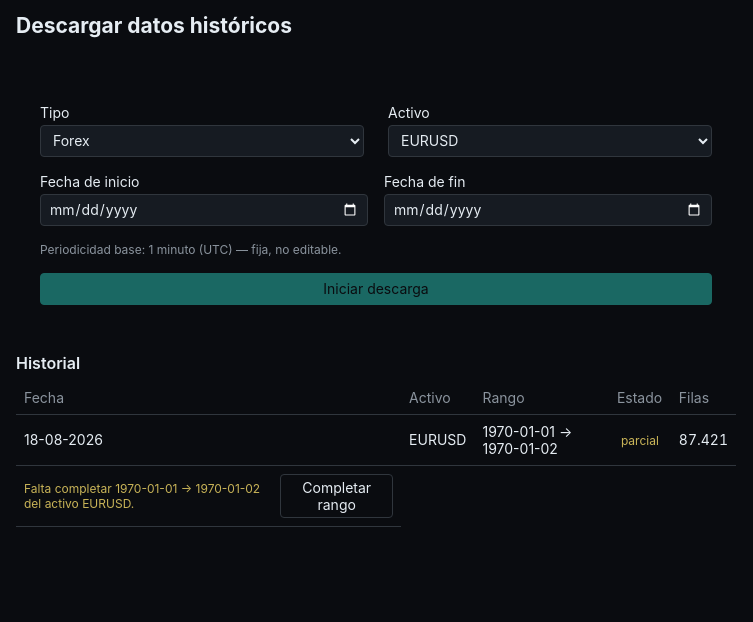
it: DownloadScreen (TASK-UI-021, SCR-002) › marks a partial result and offers to complete the range (RF-006)
Type "2026-01-01" into the date field labelled "Fecha de inicio".
click(204, 210); type("2026-01-01")  # box [40, 194, 368, 226]
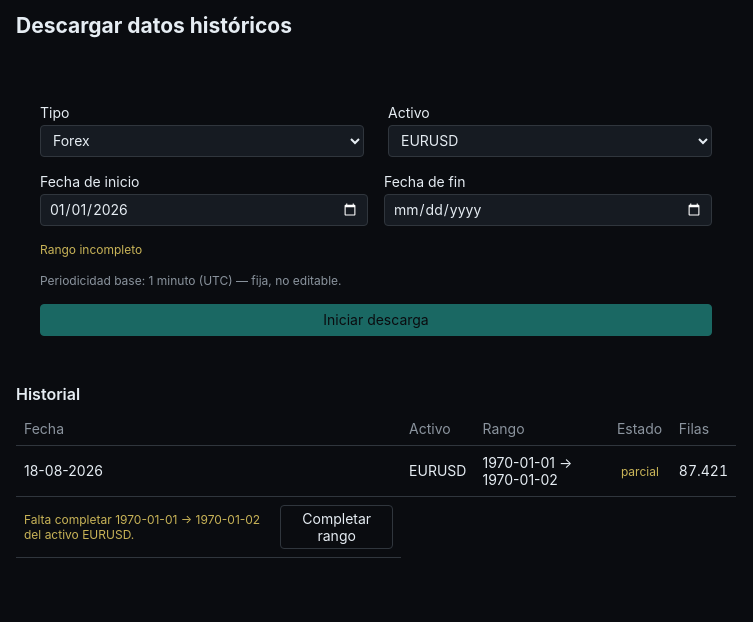
Type "2026-01-02" into the date field labelled "Fecha de fin".
click(548, 210); type("2026-01-02")  # box [384, 194, 712, 226]
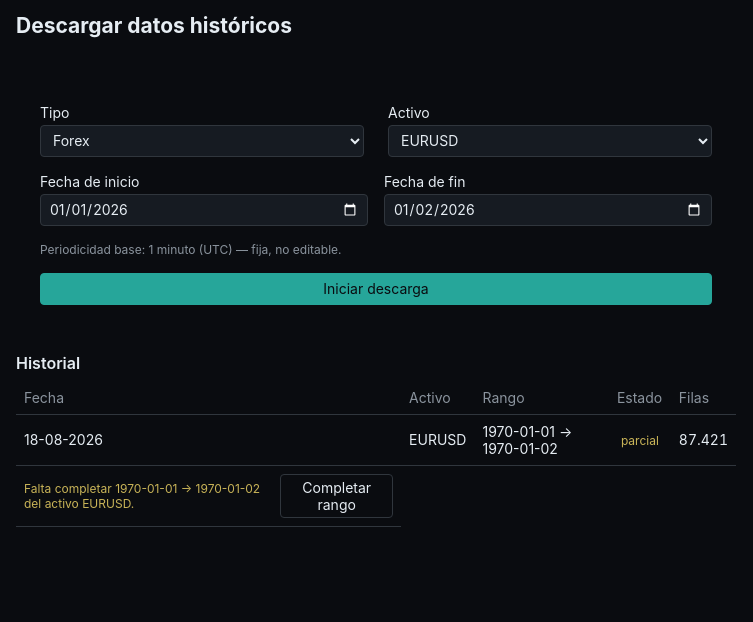
Click the button "Iniciar descarga".
click(376, 289)  # box [40, 273, 712, 305]
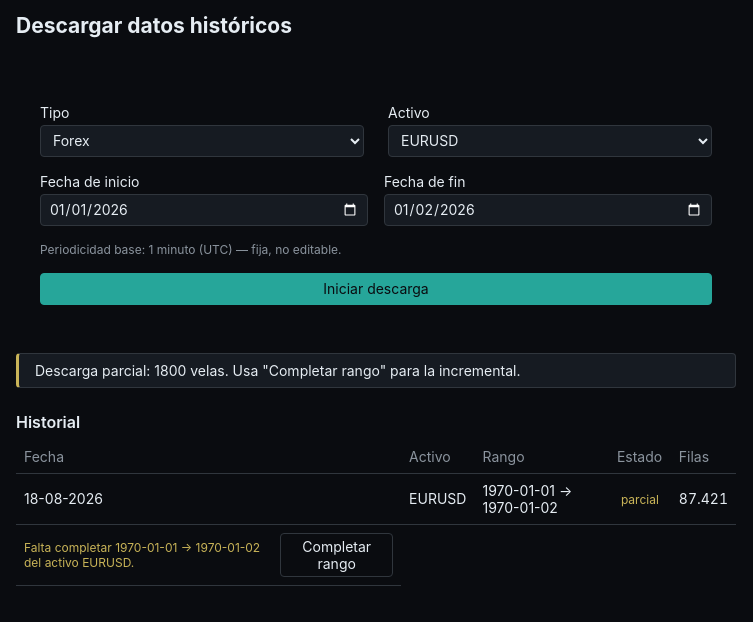
Now the text "Descarga parcial:" is shown, box [35, 362, 520, 379]
Click the button "Completar rango".
click(337, 555)  # box [280, 533, 393, 577]
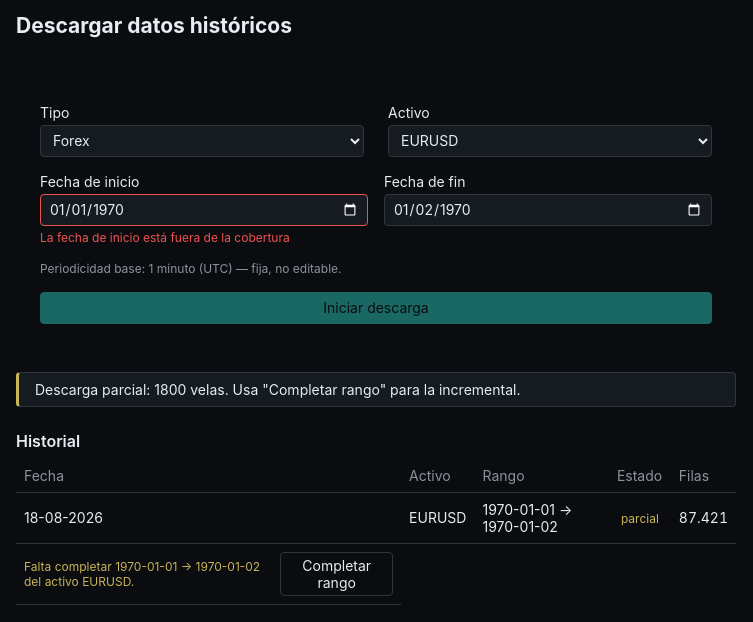
Now the date field labelled "Fecha de inicio" holds "1970-01-01", box [40, 194, 368, 226]
Now the date field labelled "Fecha de fin" holds "1970-01-02", box [384, 194, 712, 226]
